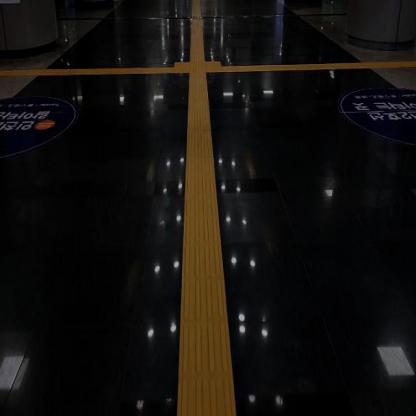podotacti: (177, 74, 240, 415), (160, 46, 234, 95), (222, 59, 415, 74), (0, 66, 173, 78), (189, 0, 206, 60)
